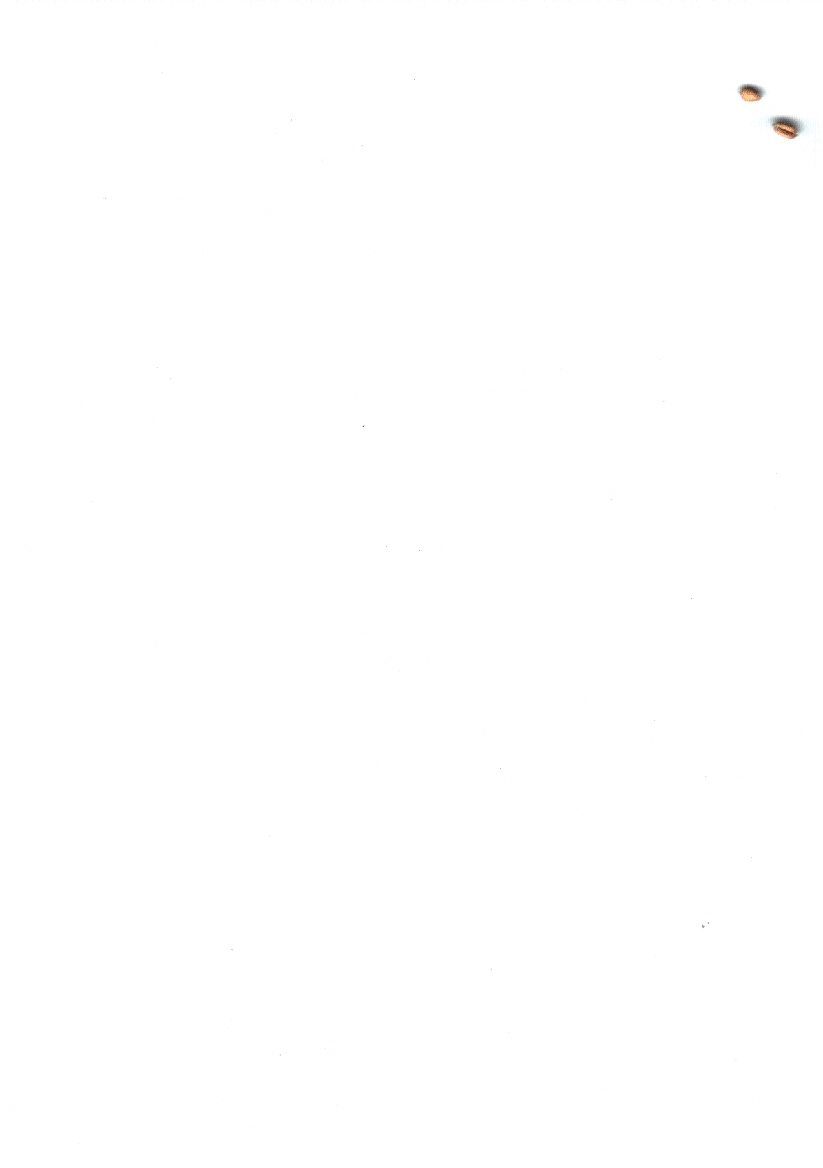grains: (763, 108, 808, 143), (731, 76, 766, 111)
